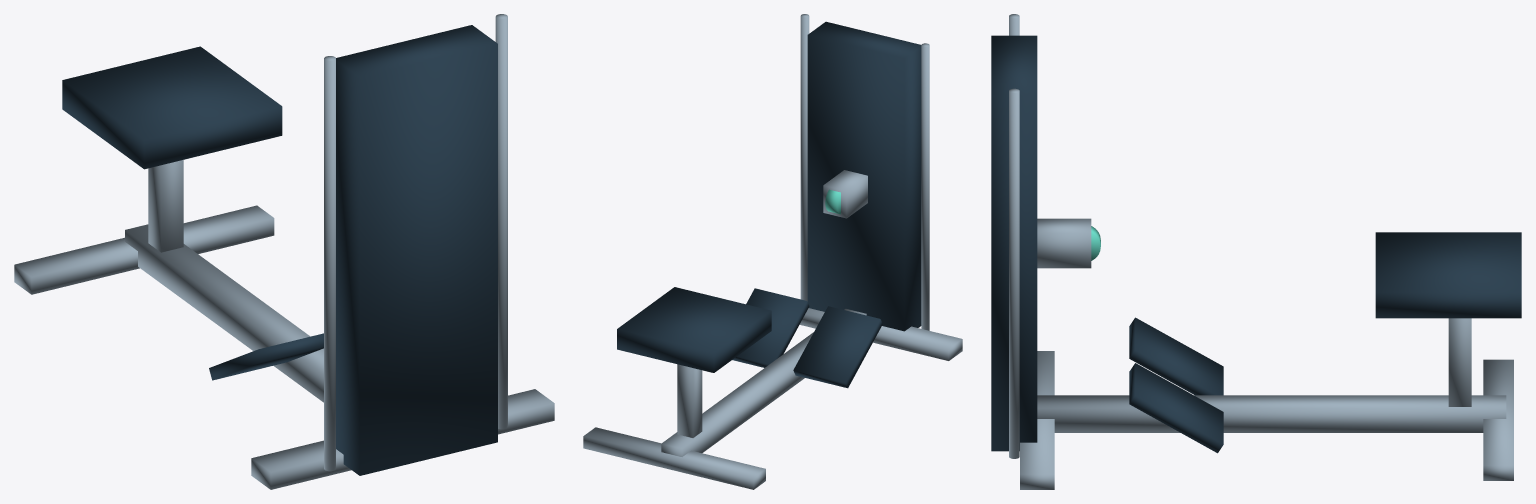
File: cable_station_low.glb
3 renders of one model, left to right at view 1: azimuth 30°, elevation 25°; view 2: azimuth 150°, elevation 25°; view 3: azimuth 270°, elevation 25°, orthographic. The views are drawn at different scales.
Parts seen in each view (by area): view 1: weight_tower, base_frame, seat, guide, footplate_pad_R; view 2: weight_tower, base_frame, seat, guide, footplate_pad_R, footplate_pad_L, pulley_bracket; view 3: base_frame, weight_tower, seat, guide, footplate_pad_L, footplate_pad_R, pulley_bracket.
Part boxes in pixels (bbox=[...]): weight_tower: bbox=[336, 25, 497, 475]; base_frame: bbox=[14, 160, 554, 489]; seat: bbox=[62, 46, 282, 169]; guide: bbox=[324, 14, 507, 471]; footplate_pad_R: bbox=[209, 333, 323, 380]; weight_tower: bbox=[807, 21, 921, 331]; base_frame: bbox=[583, 301, 962, 489]; seat: bbox=[617, 287, 771, 372]; guide: bbox=[800, 14, 929, 330]; footplate_pad_R: bbox=[793, 306, 882, 388]; footplate_pad_L: bbox=[732, 288, 809, 367]; pulley_bracket: bbox=[823, 170, 867, 218]; base_frame: bbox=[1020, 318, 1513, 489]; weight_tower: bbox=[991, 35, 1037, 451]; seat: bbox=[1375, 232, 1521, 318]; guide: bbox=[1009, 14, 1019, 458]; footplate_pad_L: bbox=[1129, 363, 1223, 453]; footplate_pad_R: bbox=[1129, 317, 1223, 395]; pulley_bracket: bbox=[1037, 218, 1091, 268].
Size of the model in its own units: 0.76 by 1.08 by 1.38.
